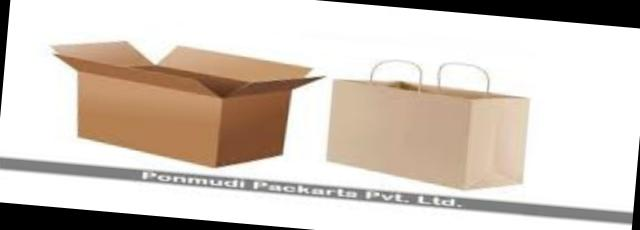cardboard paper: (51, 38, 315, 162), (325, 76, 525, 183), (325, 77, 523, 183)
